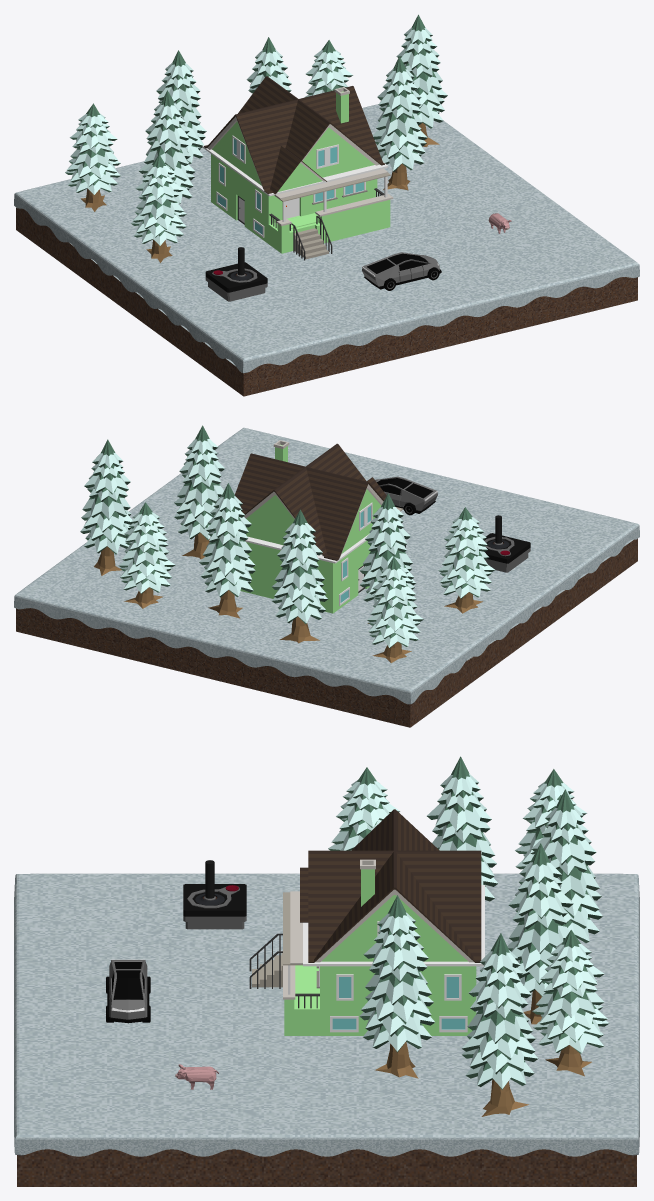
The picture shows the model from 3 angles, top to bottom: view 1: azimuth 30°, elevation 25°; view 2: azimuth 150°, elevation 25°; view 3: azimuth 270°, elevation 25°; orthographic projection. The views are drawn at different scales.
Visible parts, largest first — view 1: Cube.003, Cube.274, VEHICLES_CYBERTRUCK, OBJRANDOM_JOYSTICK; view 2: Cube.003, Cube.274, OBJRANDOM_JOYSTICK, VEHICLES_CYBERTRUCK; view 3: Cube.003, Cube.274, OBJRANDOM_JOYSTICK, VEHICLES_CYBERTRUCK, ANIMAL_CERDO.
Part boxes in pixels (bbox=[...]): Cube.003: bbox=[14, 14, 639, 396]; Cube.274: bbox=[202, 76, 393, 260]; VEHICLES_CYBERTRUCK: bbox=[362, 252, 441, 290]; OBJRANDOM_JOYSTICK: bbox=[205, 247, 267, 301]; Cube.003: bbox=[14, 425, 639, 727]; Cube.274: bbox=[235, 440, 405, 613]; OBJRANDOM_JOYSTICK: bbox=[484, 515, 530, 572]; VEHICLES_CYBERTRUCK: bbox=[375, 476, 437, 515]; Cube.003: bbox=[14, 756, 639, 1186]; Cube.274: bbox=[249, 809, 484, 1035]; OBJRANDOM_JOYSTICK: bbox=[183, 860, 246, 929]; VEHICLES_CYBERTRUCK: bbox=[106, 959, 150, 1023]; ANIMAL_CERDO: bbox=[175, 1064, 218, 1089].
Size of the model in its own units: 4040 by 1692 by 4040.
Materials: 35 (3 with a texture image).
